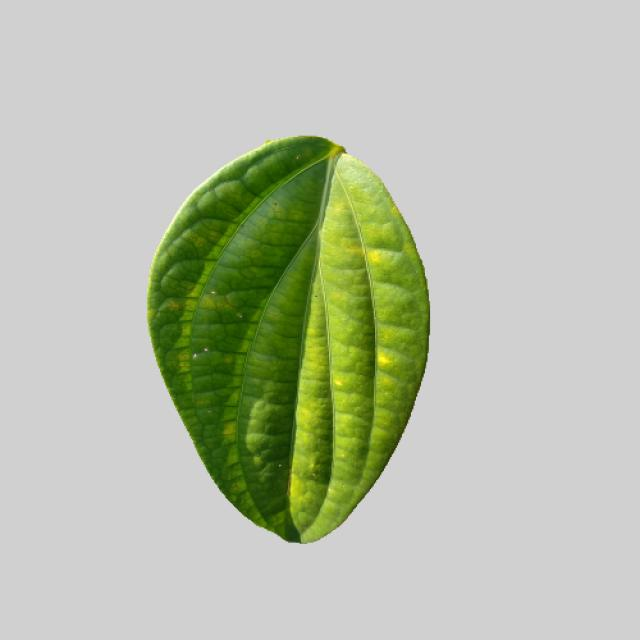healthy: (143, 136, 436, 549)
